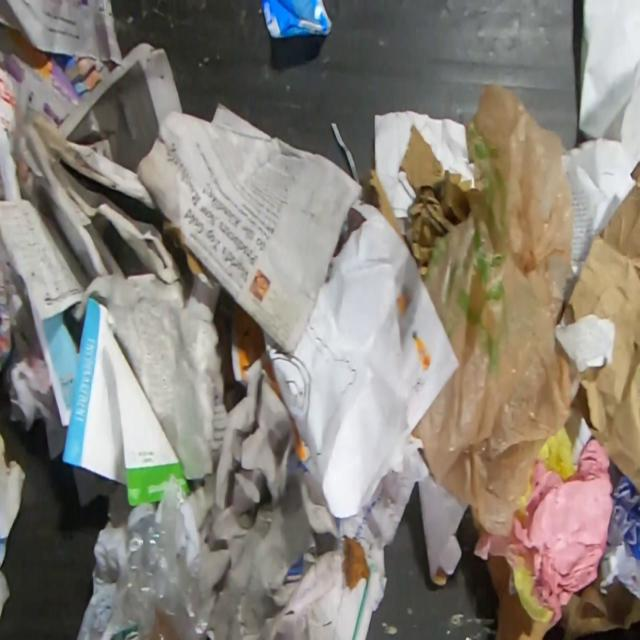cardboard: (15, 107, 222, 316), (556, 567, 640, 640), (418, 474, 468, 586), (0, 429, 27, 621)
rigid_plastic: (260, 0, 333, 39)
soft_plastic: (412, 79, 578, 539), (105, 470, 216, 640)
